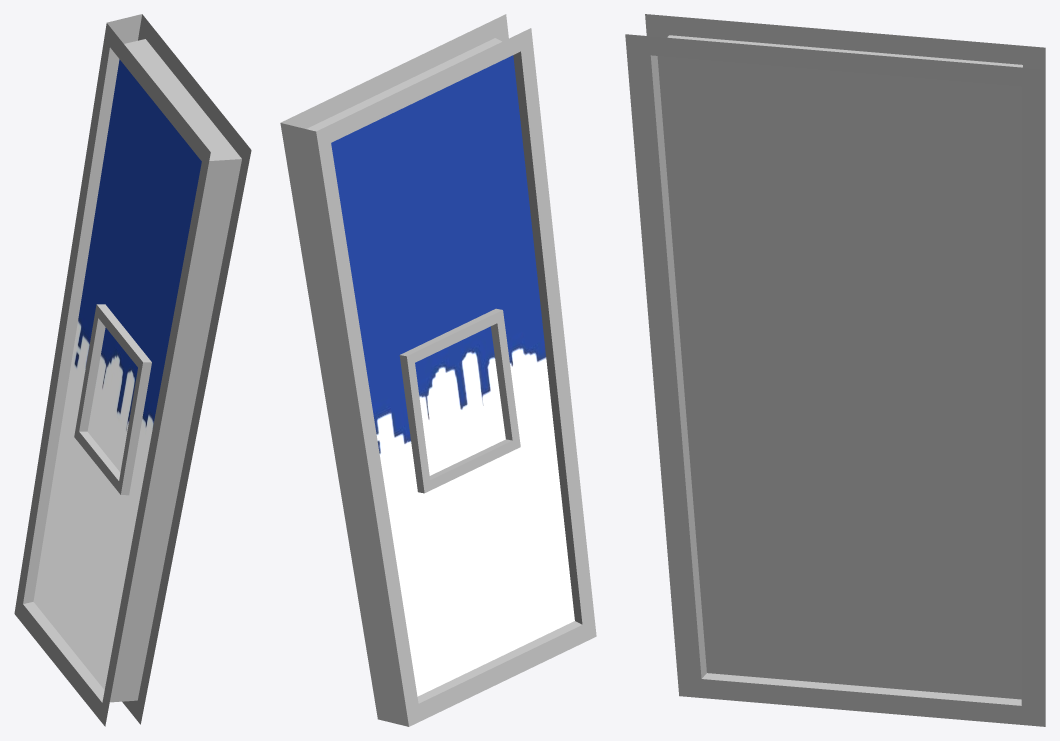
The model's file is mdl_zesty_room_door.gltf.
3 renders of one model, left to right at view 1: azimuth 30°, elevation 25°; view 2: azimuth 150°, elevation 25°; view 3: azimuth 270°, elevation 25°, orthographic. The views are drawn at different scales.
Visible parts, largest first — view 1: mdl_zesty_room_door; view 2: mdl_zesty_room_door; view 3: mdl_zesty_room_door.
Part boxes in pixels (left/top/right/bottom): mdl_zesty_room_door: left=14, top=14, right=251, bottom=726; mdl_zesty_room_door: left=280, top=14, right=596, bottom=726; mdl_zesty_room_door: left=625, top=14, right=1045, bottom=726.
Bounding box in the file's own units: 1.05 × 3.25 × 1.73.
2 materials, 1 textured.
